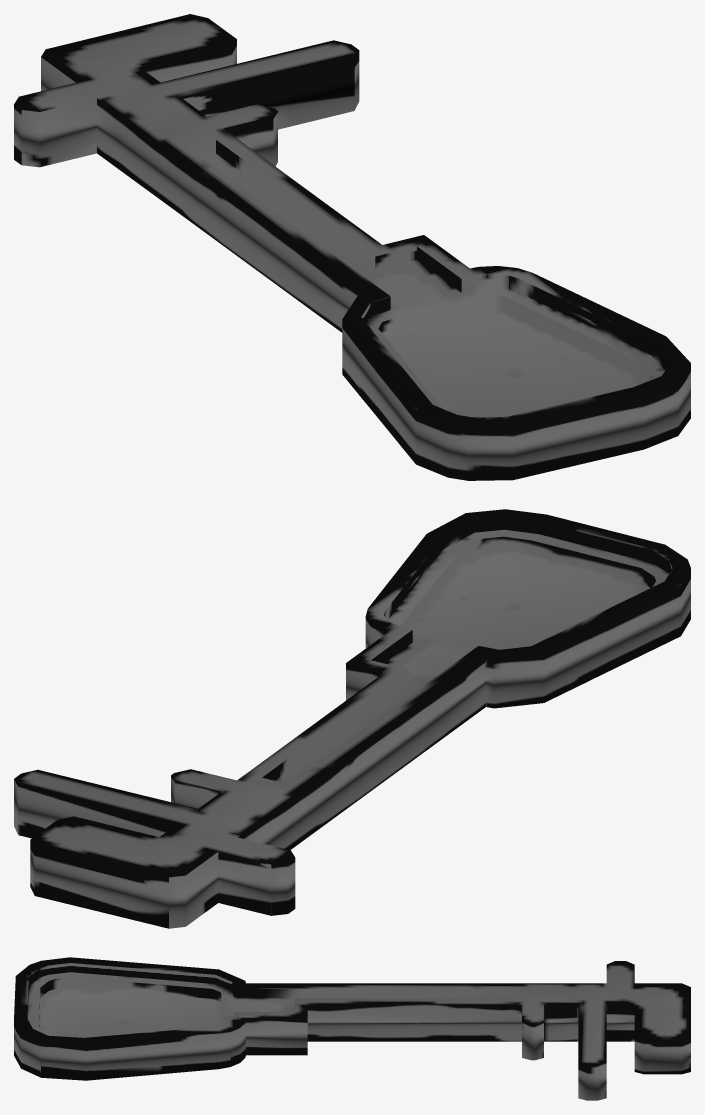
Rendered from GreyKey.glb.
The picture shows the model from 3 angles, top to bottom: view 1: azimuth 30°, elevation 25°; view 2: azimuth 150°, elevation 25°; view 3: azimuth 270°, elevation 25°; orthographic projection. The views are drawn at different scales.
Parts seen in each view (by area): view 1: Key; view 2: Key; view 3: Key.
Part boxes in pixels (left/top/right/bottom): Key: left=14, top=14, right=690, bottom=480; Key: left=14, top=509, right=690, bottom=928; Key: left=14, top=957, right=690, bottom=1100.
Bounding box in the file's own units: 0.3401 × 0.0549 × 0.9047.
1 material, 1 textured.
